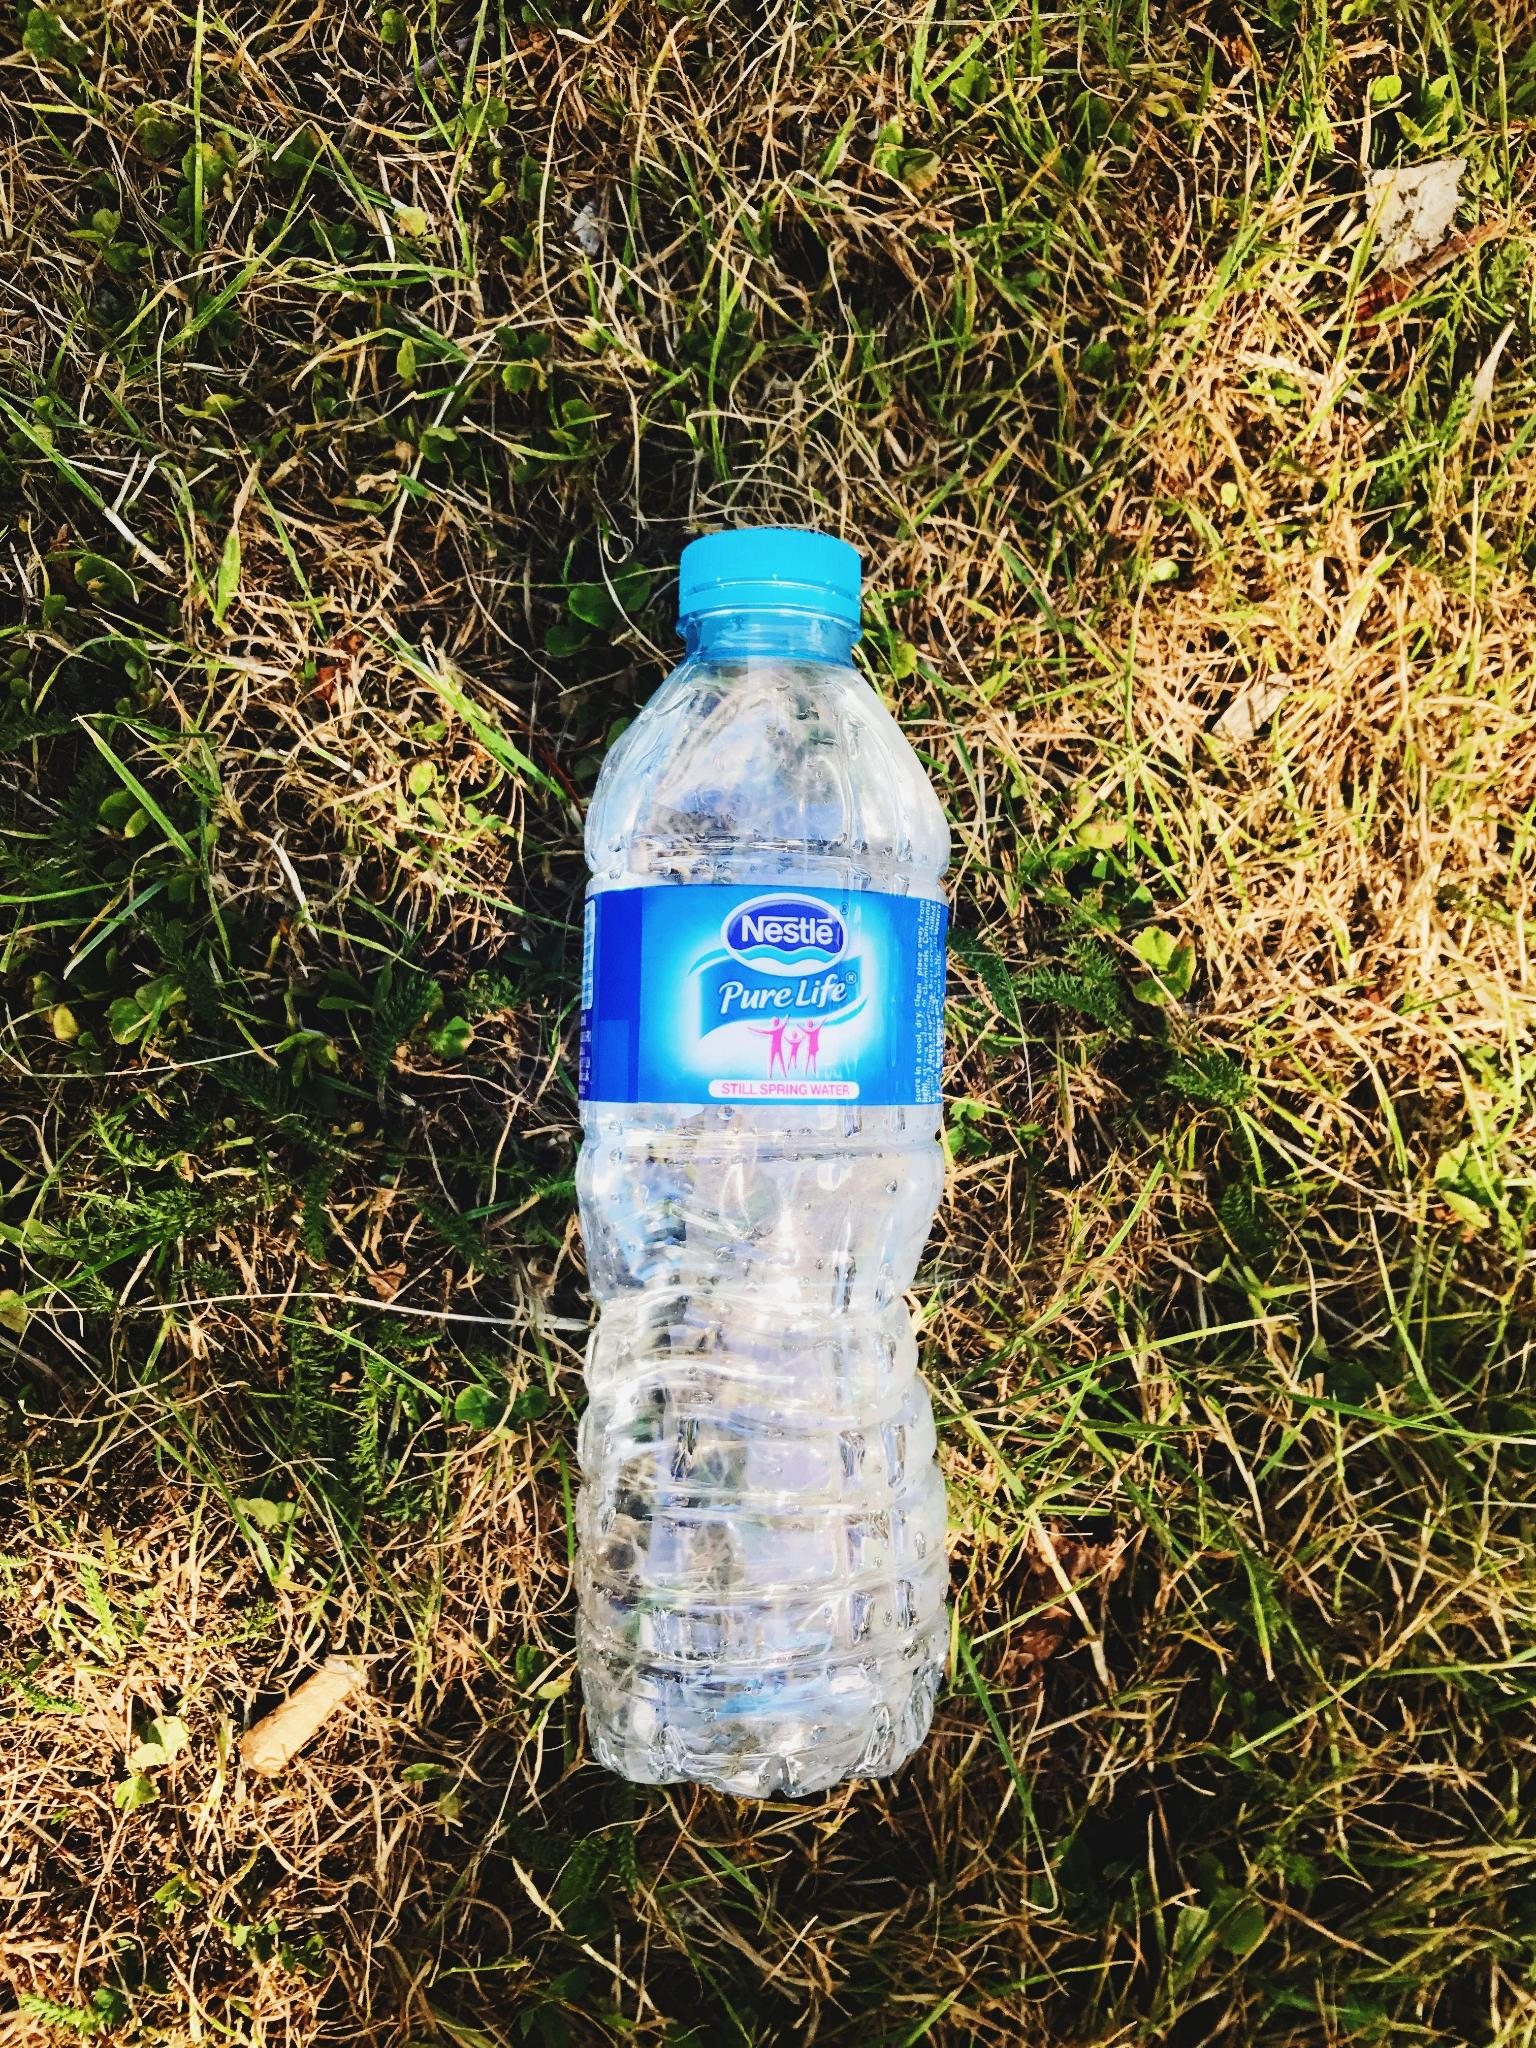bottle: (579, 529, 968, 1821)
